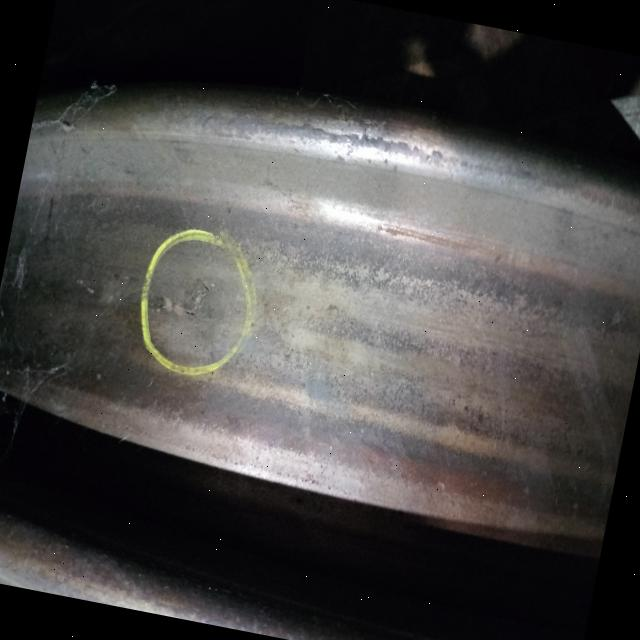Blue hole: (151, 268, 223, 346)
